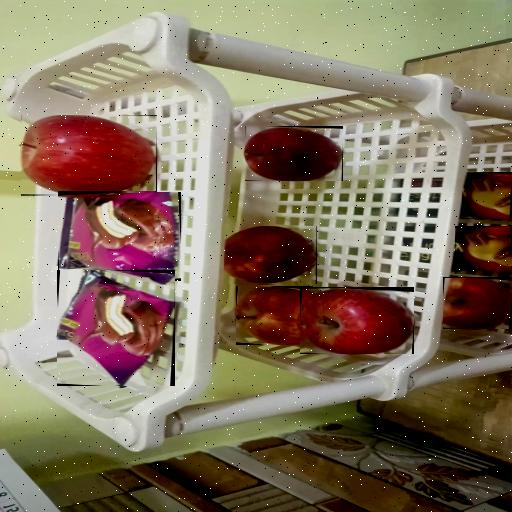Apple: (21, 115, 157, 195), (300, 289, 414, 354), (245, 127, 343, 181), (224, 227, 316, 284), (236, 287, 313, 345), (443, 278, 512, 329)
Choco Fills: (455, 227, 512, 273), (462, 173, 512, 219)
Choco Pie: (58, 270, 174, 386), (60, 192, 179, 279)
